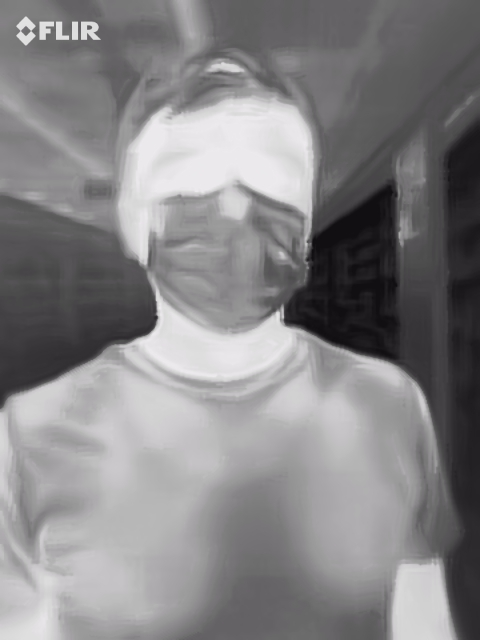head: (115, 48, 317, 338)
